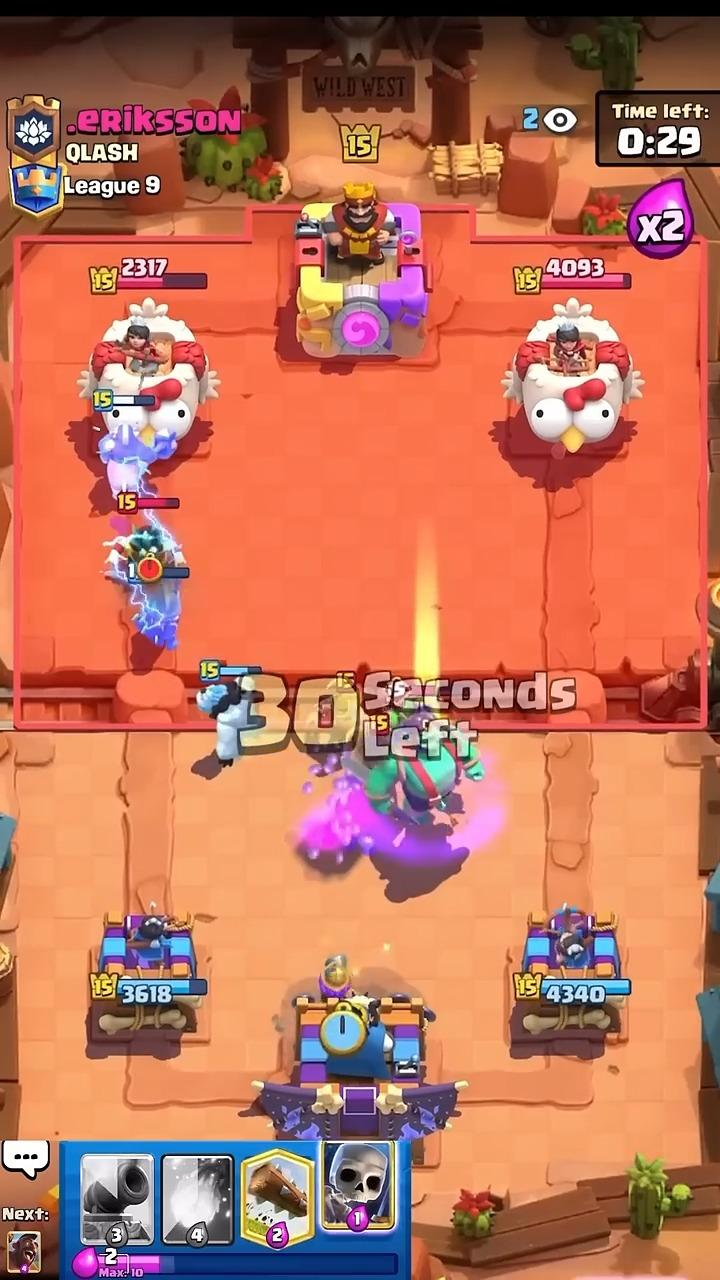goblin giant: (365, 708, 483, 824)
hog rider: (99, 406, 175, 499)
ice golem: (197, 668, 253, 768)
